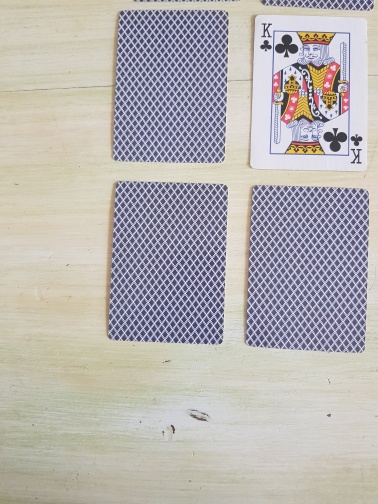king: (248, 15, 370, 172)
